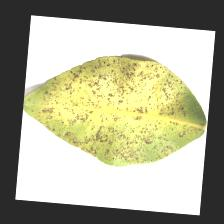canker: (64, 72, 182, 130)
